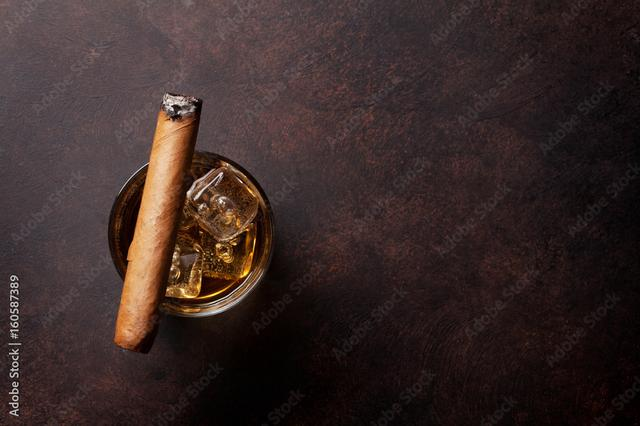Cigar: (111, 90, 203, 352)
